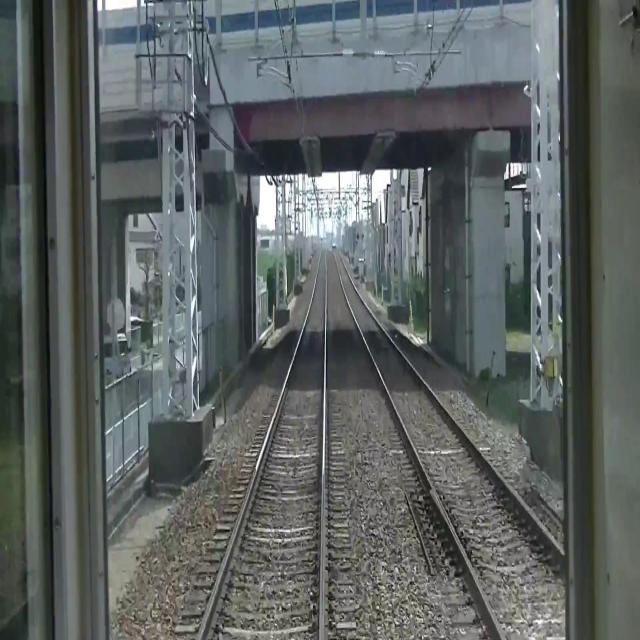rail-track: (333, 248, 516, 639), (201, 248, 325, 639)
